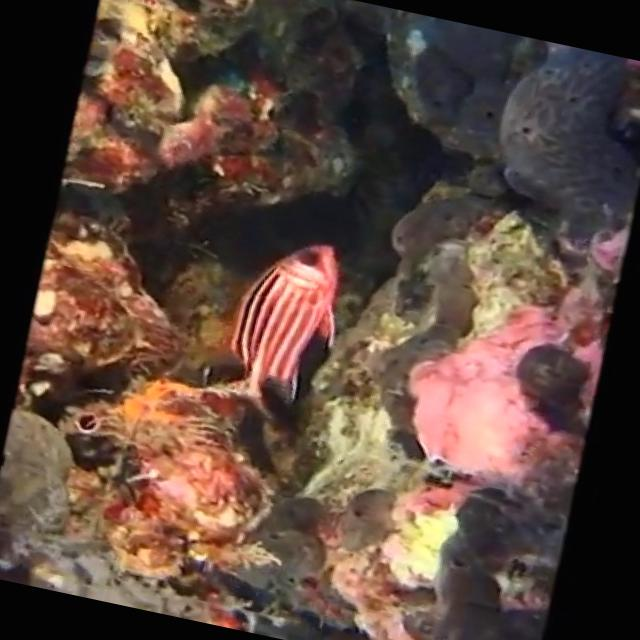Asker Baligi: (208, 225, 356, 436)
